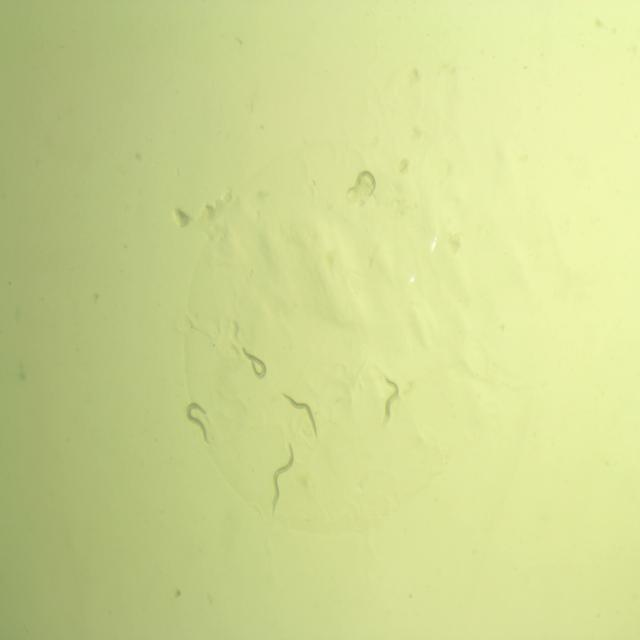worm: (280, 388, 322, 442), (269, 438, 296, 518), (184, 398, 214, 448), (343, 166, 381, 204), (379, 371, 400, 429), (240, 344, 270, 382)
